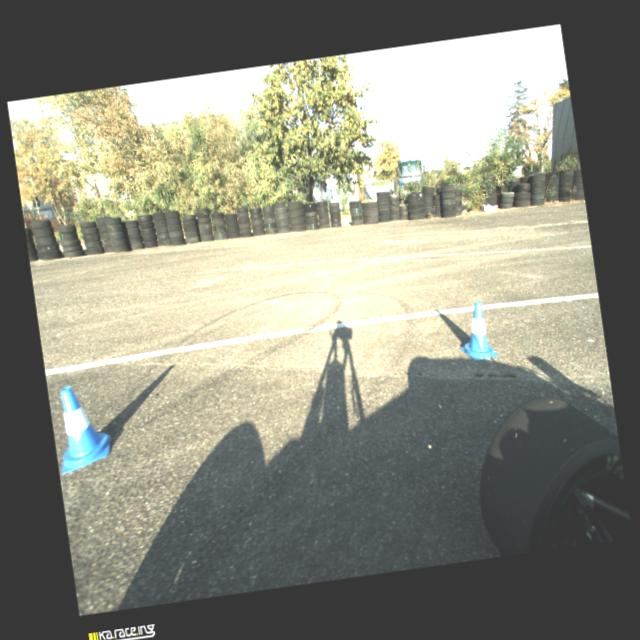blue_cone: (50, 381, 114, 473), (454, 299, 499, 362)
